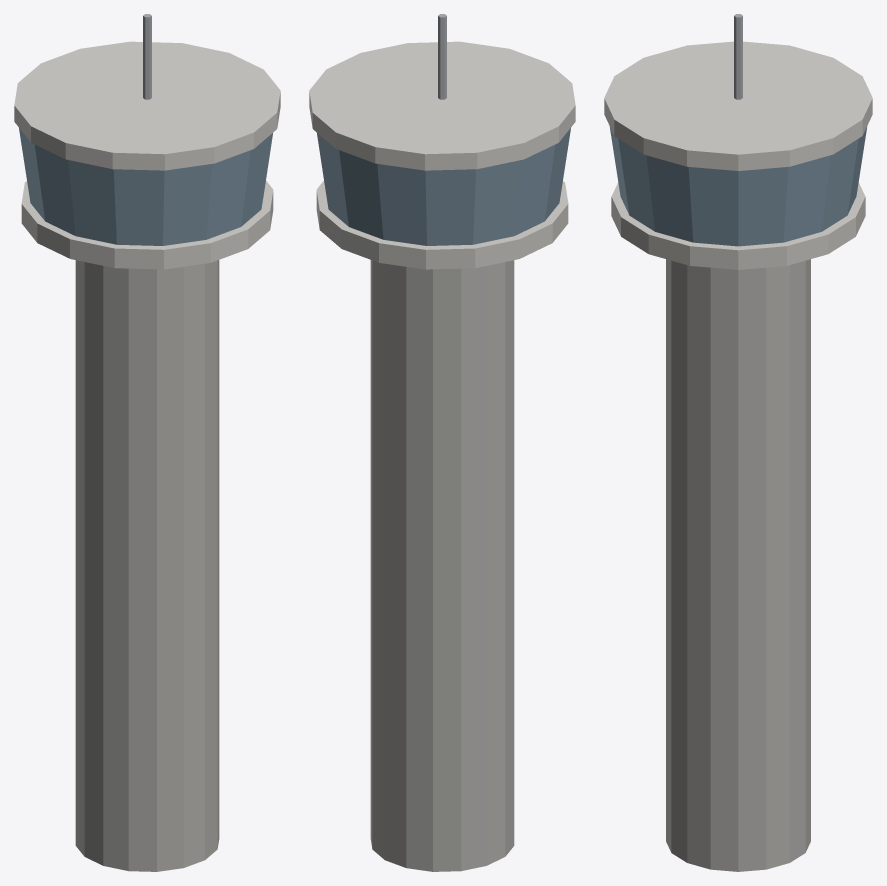
The model's file is landmark-euroairport-tower.4a288e0790.glb.
3 renders of one model, left to right at view 1: azimuth 30°, elevation 25°; view 2: azimuth 150°, elevation 25°; view 3: azimuth 270°, elevation 25°, orthographic.
Visible parts, largest first — view 1: building; view 2: building; view 3: building.
Part boxes in pixels (left/top/right/bottom): building: left=14, top=14, right=280, bottom=871; building: left=309, top=14, right=575, bottom=871; building: left=604, top=14, right=872, bottom=871.
Bounding box in the file's own units: 14.8 × 50.2 × 14.8.
